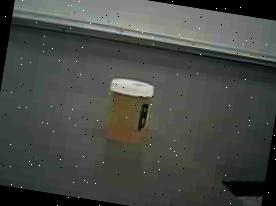Bottle B: (99, 73, 165, 154)
